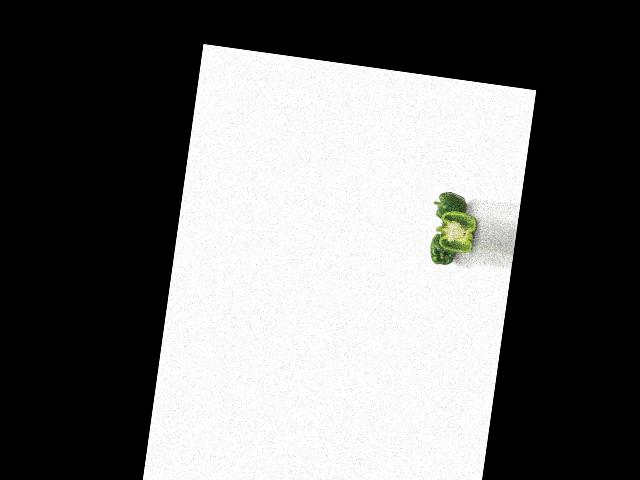bell_pepper: (425, 229, 462, 269)
